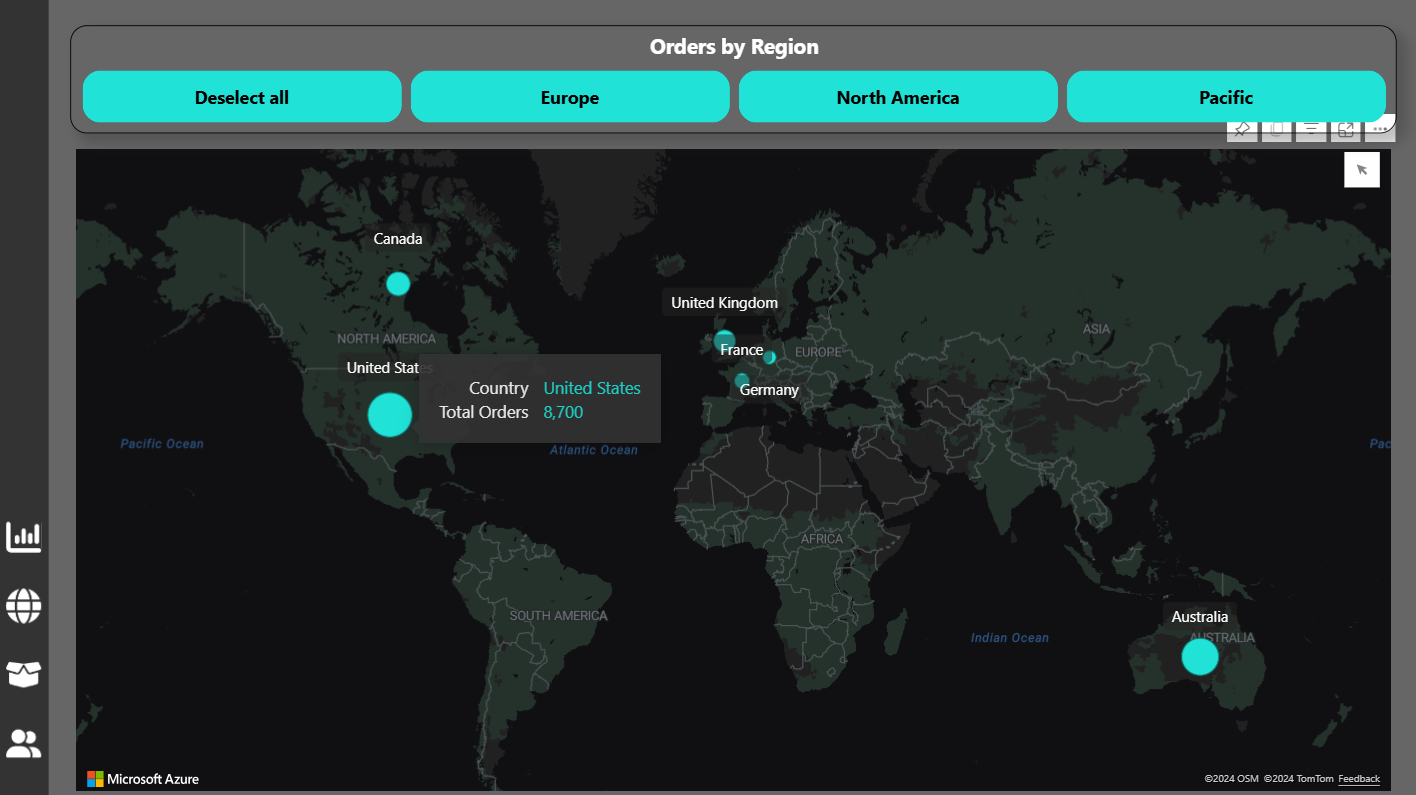

The page's visual inventory and layout, read from the dashboard file:
{"tool":"powerbi","page":{"name":"Order Map","canvas":[1280,720],"ordinal":1},"visuals":[{"type":"azureMap","title":"Map","fields":{"Category":["Territory Lookup.Country"],"Size":["Measure Table.Total Orders"]},"box":[64.1,130.6,1196.9,588.9],"z":0},{"type":"shape","title":"Navigation Pane","box":[0,0,45,720],"z":1000},{"type":"group","id":"g1","title":"Navigation Pane Buttons","box":[0,465.6,44.5,226.2],"z":2000},{"type":"advancedSlicerVisual","title":"Orders by Region","fields":{"Values":["Territory Lookup.Continent"]},"box":[64.1,23.7,1196.9,97.4],"z":3000},{"type":"actionButton","title":"Button - Customer Detail","box":[0,652.1,44.5,39.7],"z":5000,"group":"g1"},{"type":"actionButton","title":"Button - Product Detail","box":[0,589.9,44.5,39.7],"z":5500,"group":"g1"},{"type":"actionButton","title":"Button - Map","box":[0,527.8,44.5,39.7],"z":6000,"group":"g1"},{"type":"actionButton","title":"Button - Executive Dashboard","box":[0,465.6,44.5,39.7],"z":6500,"group":"g1"}]}

Visuals, with their boxes on the page's 1280x720 design canvas (x1, y1, x2, y2). These are canvas units, not pixel positions in the 1416x795 screenshot, which may show the page scaled, cropped or inside an application window:
"Map" azureMap: [64, 131, 1261, 720]
"Navigation Pane" shape: [0, 0, 45, 720]
"Navigation Pane Buttons" group: [0, 466, 44, 692]
"Orders by Region" advancedSlicerVisual: [64, 24, 1261, 121]
"Button - Customer Detail" actionButton: [0, 652, 44, 692]
"Button - Product Detail" actionButton: [0, 590, 44, 630]
"Button - Map" actionButton: [0, 528, 44, 568]
"Button - Executive Dashboard" actionButton: [0, 466, 44, 505]
